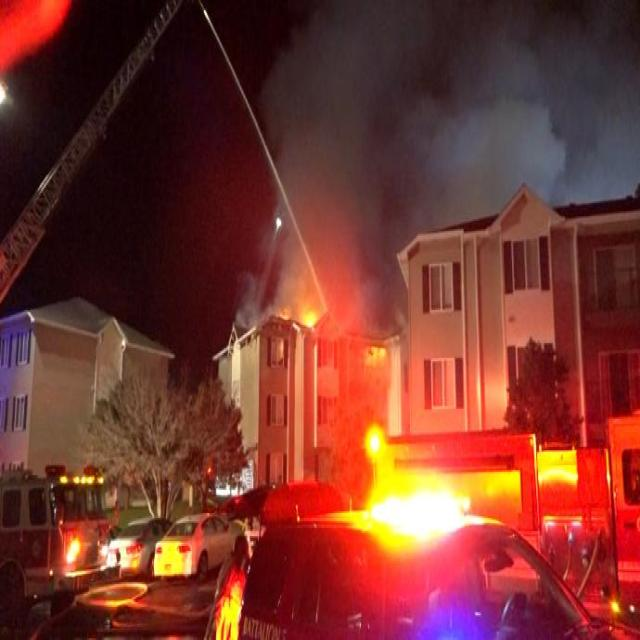smoke: (299, 17, 633, 192)
